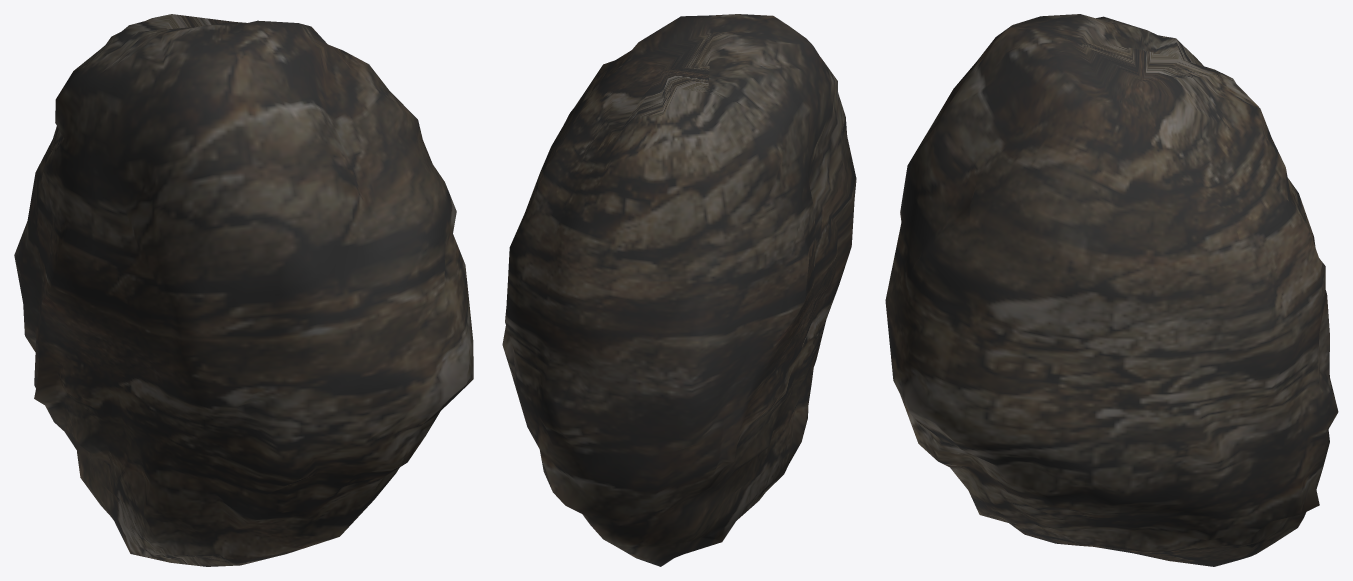
The picture shows the model from 3 angles, left to right: view 1: azimuth 30°, elevation 25°; view 2: azimuth 150°, elevation 25°; view 3: azimuth 270°, elevation 25°; orthographic projection. The views are drawn at different scales.
Visible parts, largest first — view 1: AsteroidA3; view 2: AsteroidA3; view 3: AsteroidA3.
Boxes of the visible parts, x1,y1,x2,y2 form: AsteroidA3: [14, 14, 473, 566]; AsteroidA3: [502, 14, 856, 566]; AsteroidA3: [885, 14, 1338, 566].
Bounding box in the file's own units: 1.15 × 1.81 × 1.4.
1 material, 1 textured.
